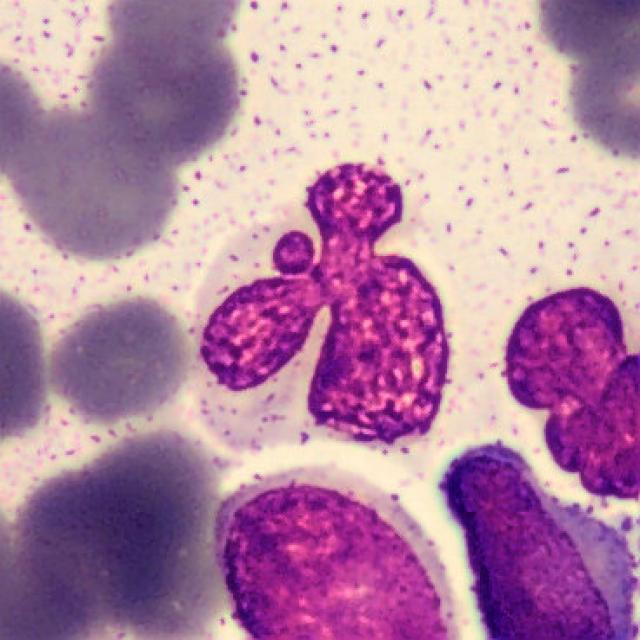Mieloblasto: (184, 166, 450, 453), (214, 464, 485, 640)
